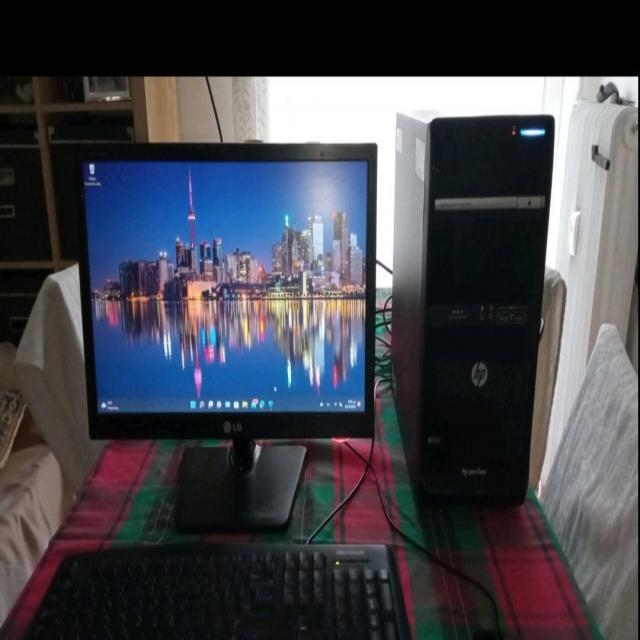Computer-Keyboard: (43, 534, 410, 640)
Desktop-PC: (402, 99, 546, 517)
Flat-Panel-Monitor: (65, 143, 382, 453)
